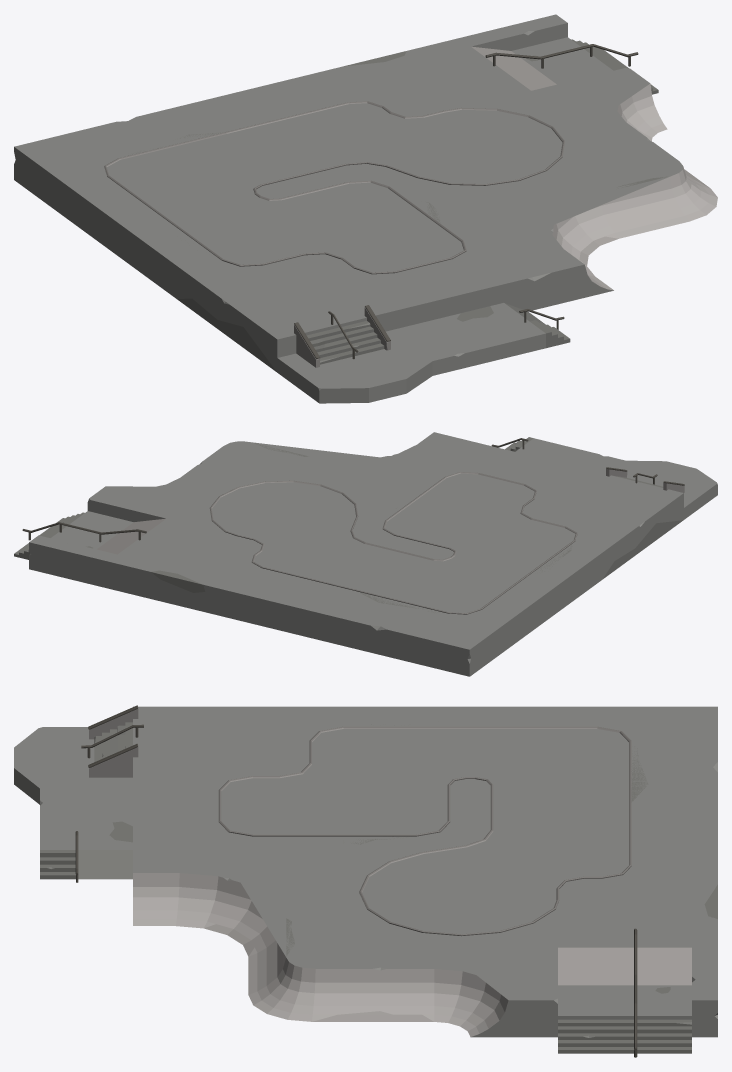
File: SM_Props_City_PlayGround_Skatepark.fbx
3 renders of one model, top to bottom at view 1: azimuth 30°, elevation 25°; view 2: azimuth 150°, elevation 25°; view 3: azimuth 270°, elevation 25°, orthographic. The views are drawn at different scales.
Parts seen in each view (by area): view 1: SM_Props_City_PlayGround_Skatepark; view 2: SM_Props_City_PlayGround_Skatepark; view 3: SM_Props_City_PlayGround_Skatepark.
Boxes of the visible parts, x1,y1,x2,y2 form: SM_Props_City_PlayGround_Skatepark: (14,14,717,403); SM_Props_City_PlayGround_Skatepark: (14,432,717,676); SM_Props_City_PlayGround_Skatepark: (14,705,717,1057).
Size of the model in its own units: 2903 by 218 by 2718.
